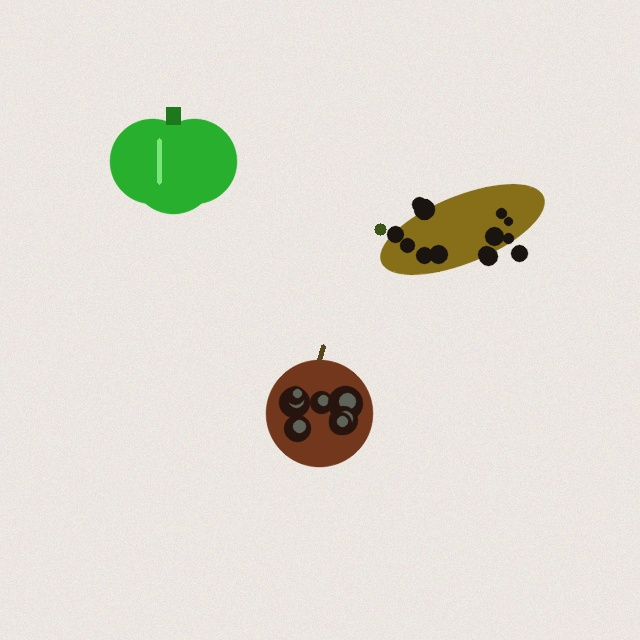Fresh bell pepper: (110, 107, 236, 213)
Rotten apple: (266, 346, 372, 466)
Rotten banana: (371, 188, 553, 270)
